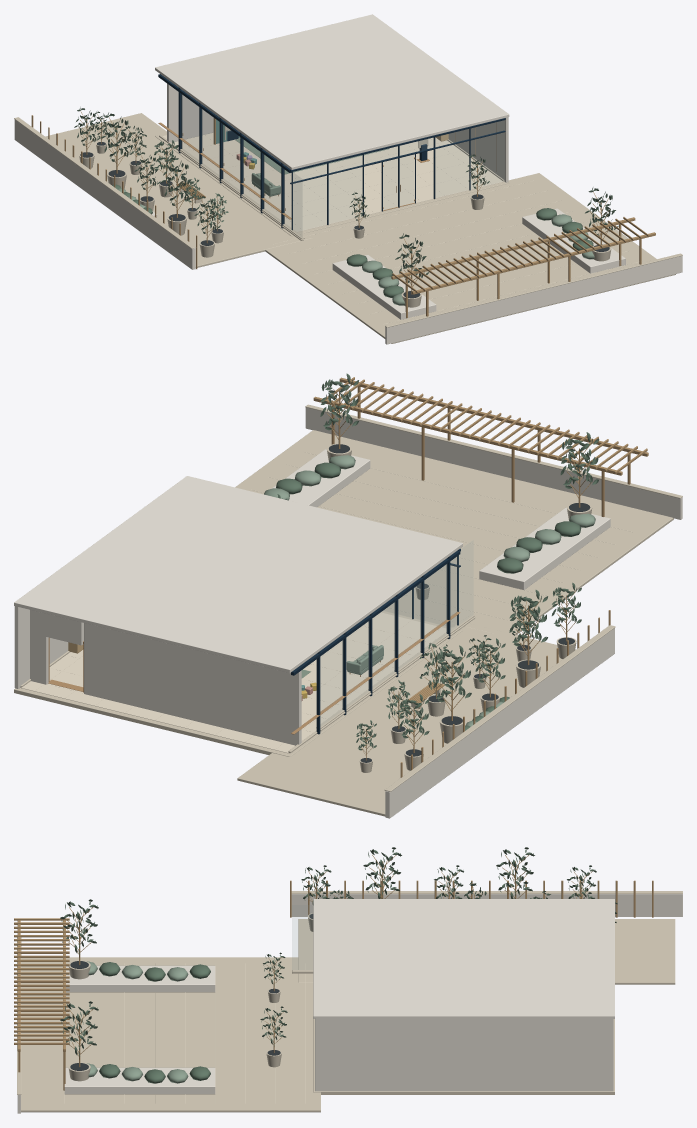
The model's file is play.glb.
3 renders of one model, top to bottom at view 1: azimuth 30°, elevation 25°; view 2: azimuth 150°, elevation 25°; view 3: azimuth 270°, elevation 25°, orthographic. The views are drawn at different scales.
Parts seen in each view (by area): view 1: SHOWROOM · play, Wind in the olive crown (×4); view 2: SHOWROOM · play, Wind in the olive crown (×7); view 3: SHOWROOM · play, Wind in the olive crown (×8).
Part boxes in pixels (x1,y1,x2,y2): SHOWROOM · play: (14, 14, 682, 344); Wind in the olive crown (×4): (100, 112, 618, 287); SHOWROOM · play: (14, 377, 682, 818); Wind in the olive crown (×7): (320, 373, 599, 745); SHOWROOM · play: (14, 861, 682, 1113); Wind in the olive crown (×8): (60, 847, 596, 1059).
Bounding box in the file's own units: 31 × 6.17 × 44.35.
